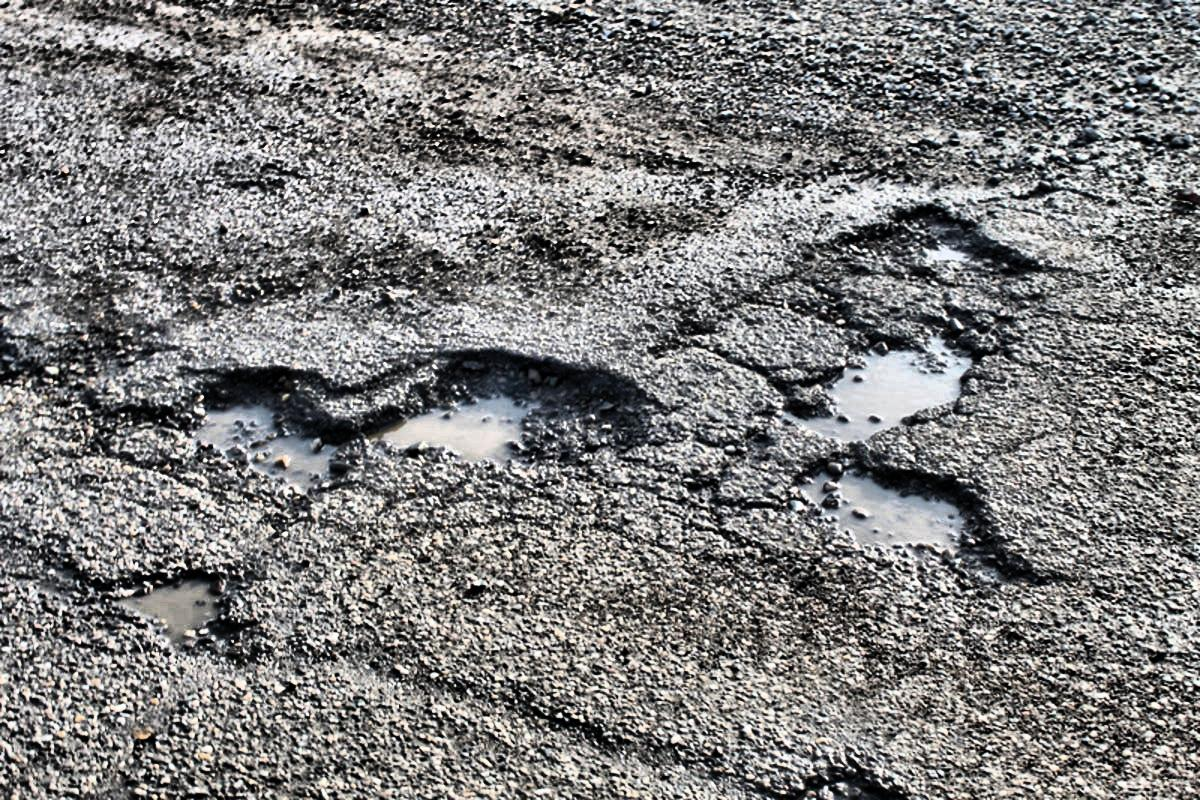pothole: (789, 300, 1028, 594), (362, 338, 654, 490), (818, 187, 1037, 283), (187, 357, 336, 498)
